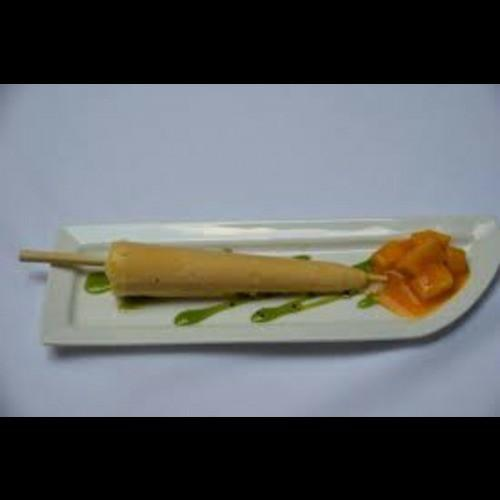Kulfi: (107, 242, 371, 301)
